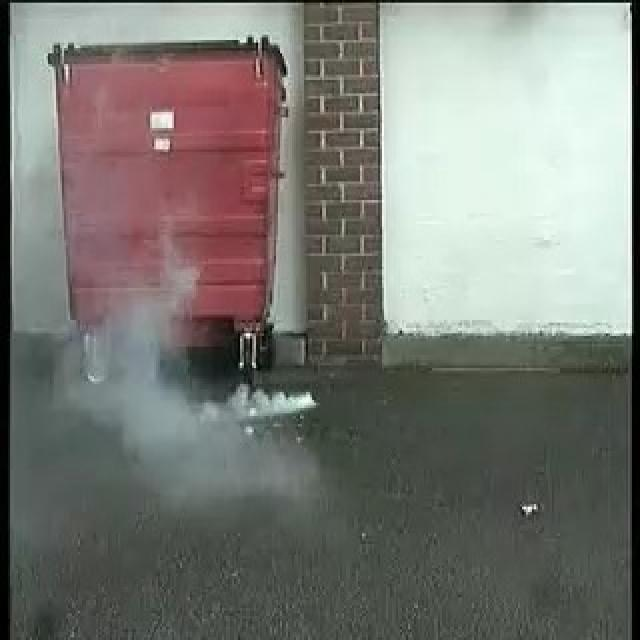Smoke: (72, 336, 318, 484)
